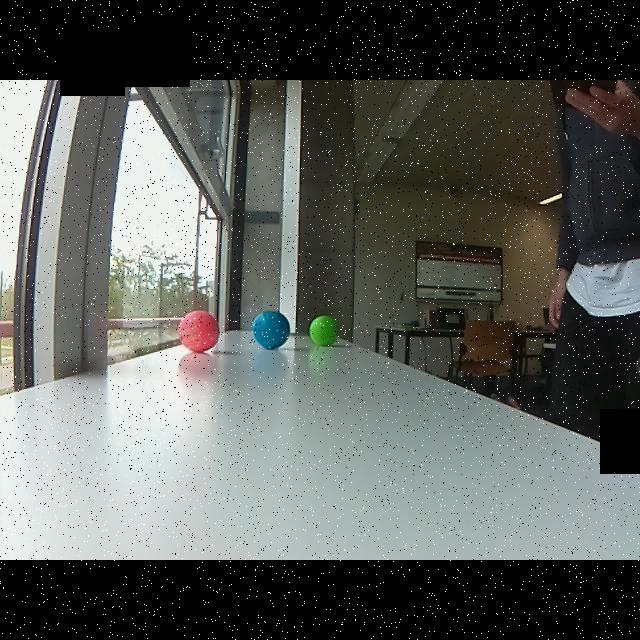ball: (174, 309, 222, 354), (250, 308, 294, 352), (306, 313, 339, 349)
